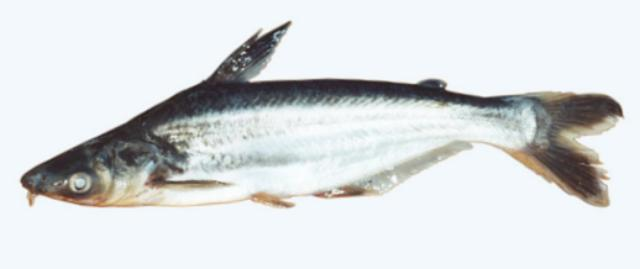Mulut: (14, 164, 68, 212)
Sirip Anal: (316, 134, 478, 202)
Sirip Dada: (144, 171, 230, 201)
Sirip Ekor: (511, 80, 629, 213)
Sirip Perut: (242, 189, 300, 217)
Sirip Punggung: (208, 18, 294, 91)
